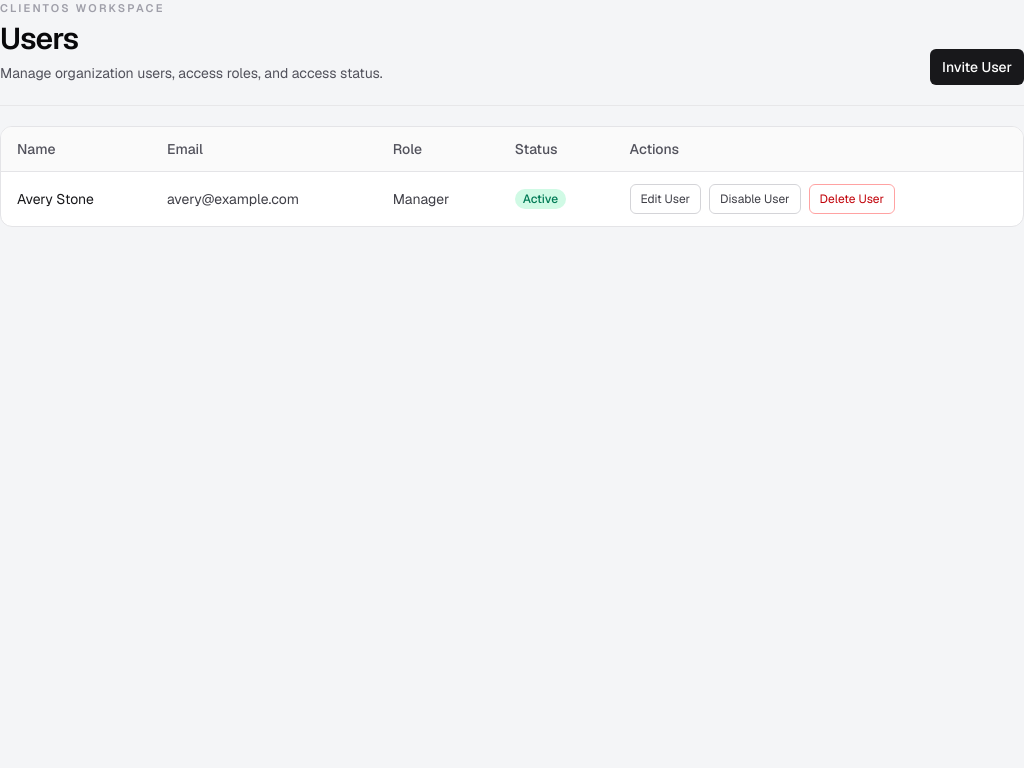
Test case: UsersPage › invites a user through the invite dialog
This screenshot has width=1024, height=768.
Click the button "Invite User" at (977, 66), box [930,48,1023,84]
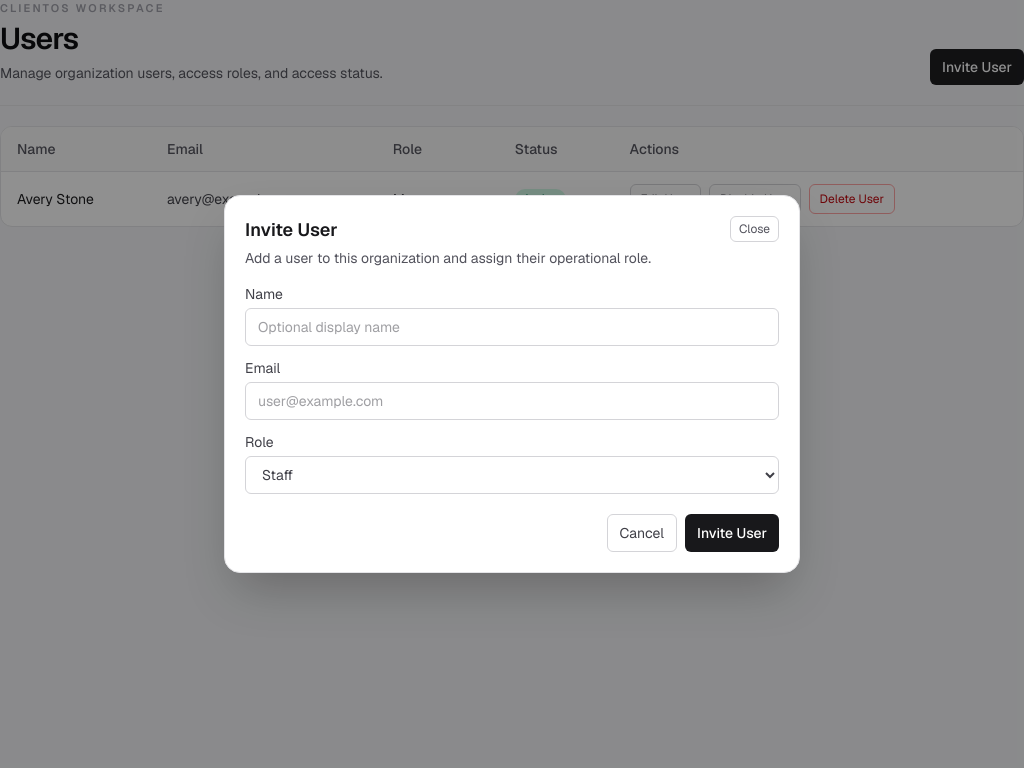
Type "Casey Lane" into the field labelled "Name" at (512, 327), box [245,308,779,346]
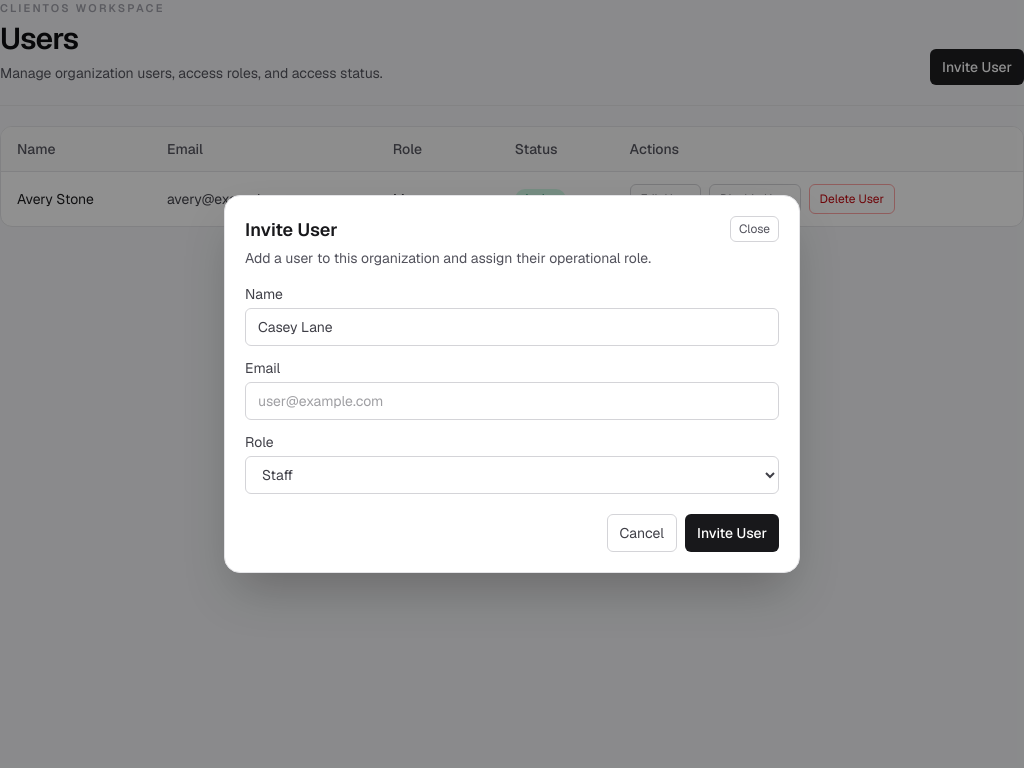
Type "casey@example.com" into the field labelled "Email" at (512, 401), box [245,382,779,420]
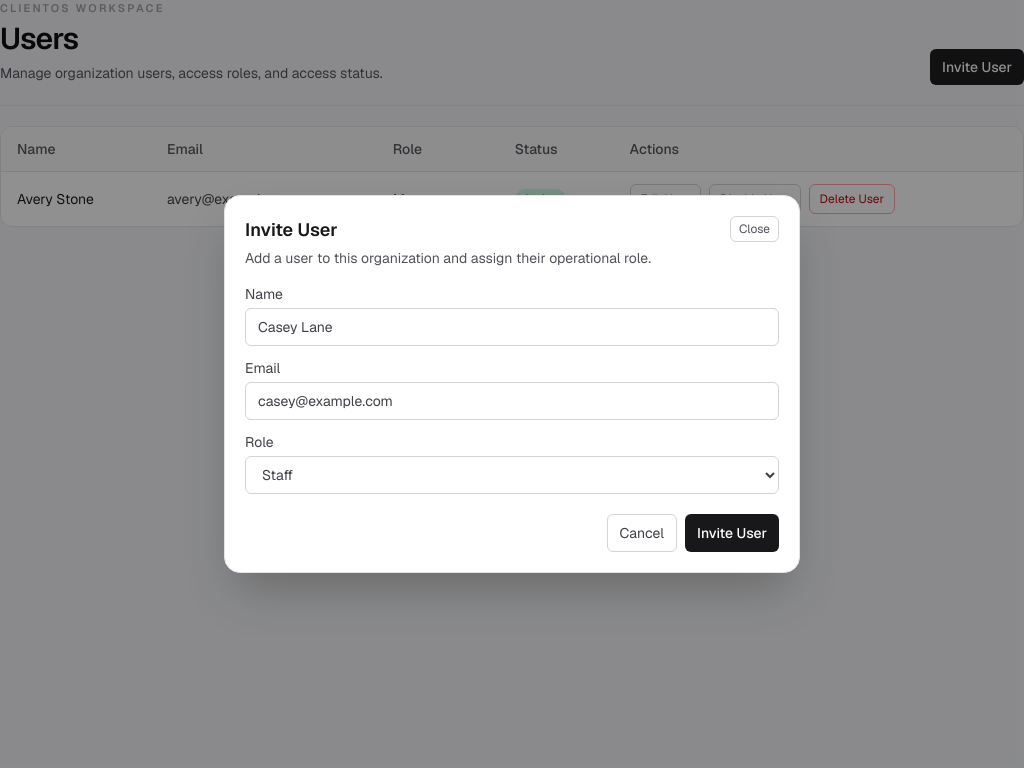
Click the button "Invite User" at (732, 533), box [685,514,779,552]
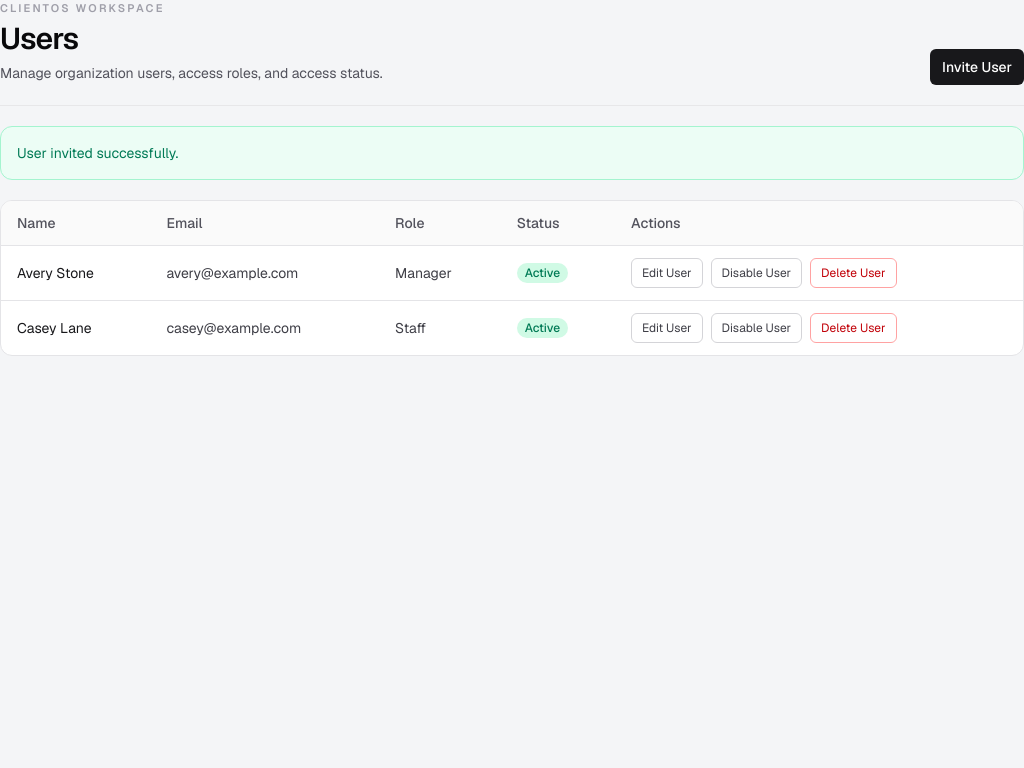
Now the text "User invited successfully." is shown, box [0,126,1023,180]
